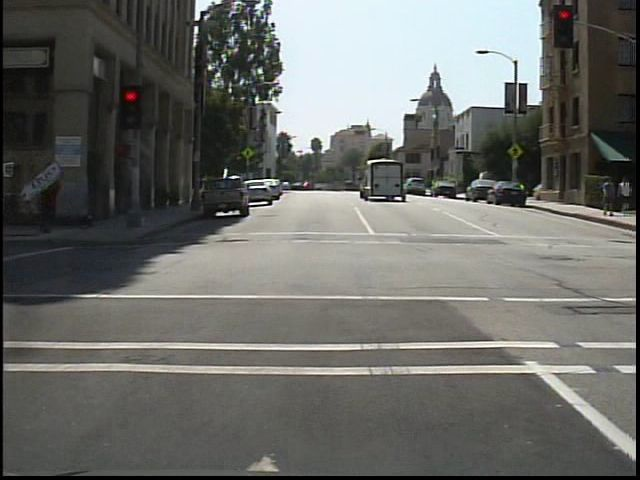person: (35, 166, 75, 236), (598, 174, 618, 220), (617, 175, 632, 218)
